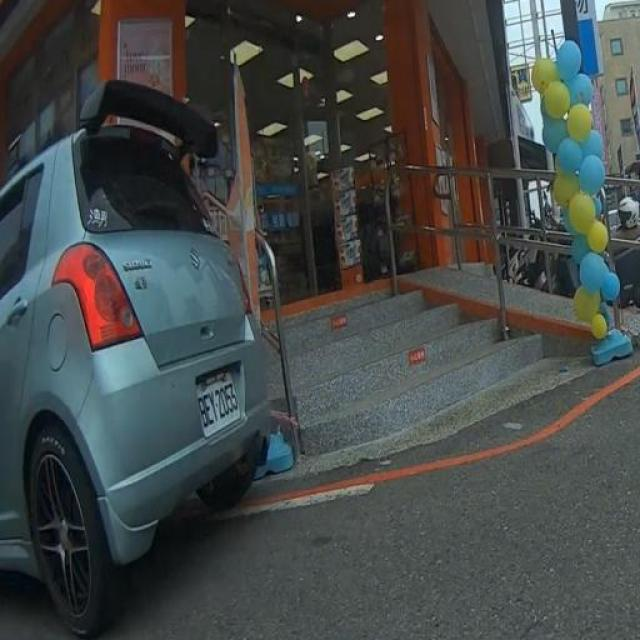illegalparking: (0, 81, 270, 638)
